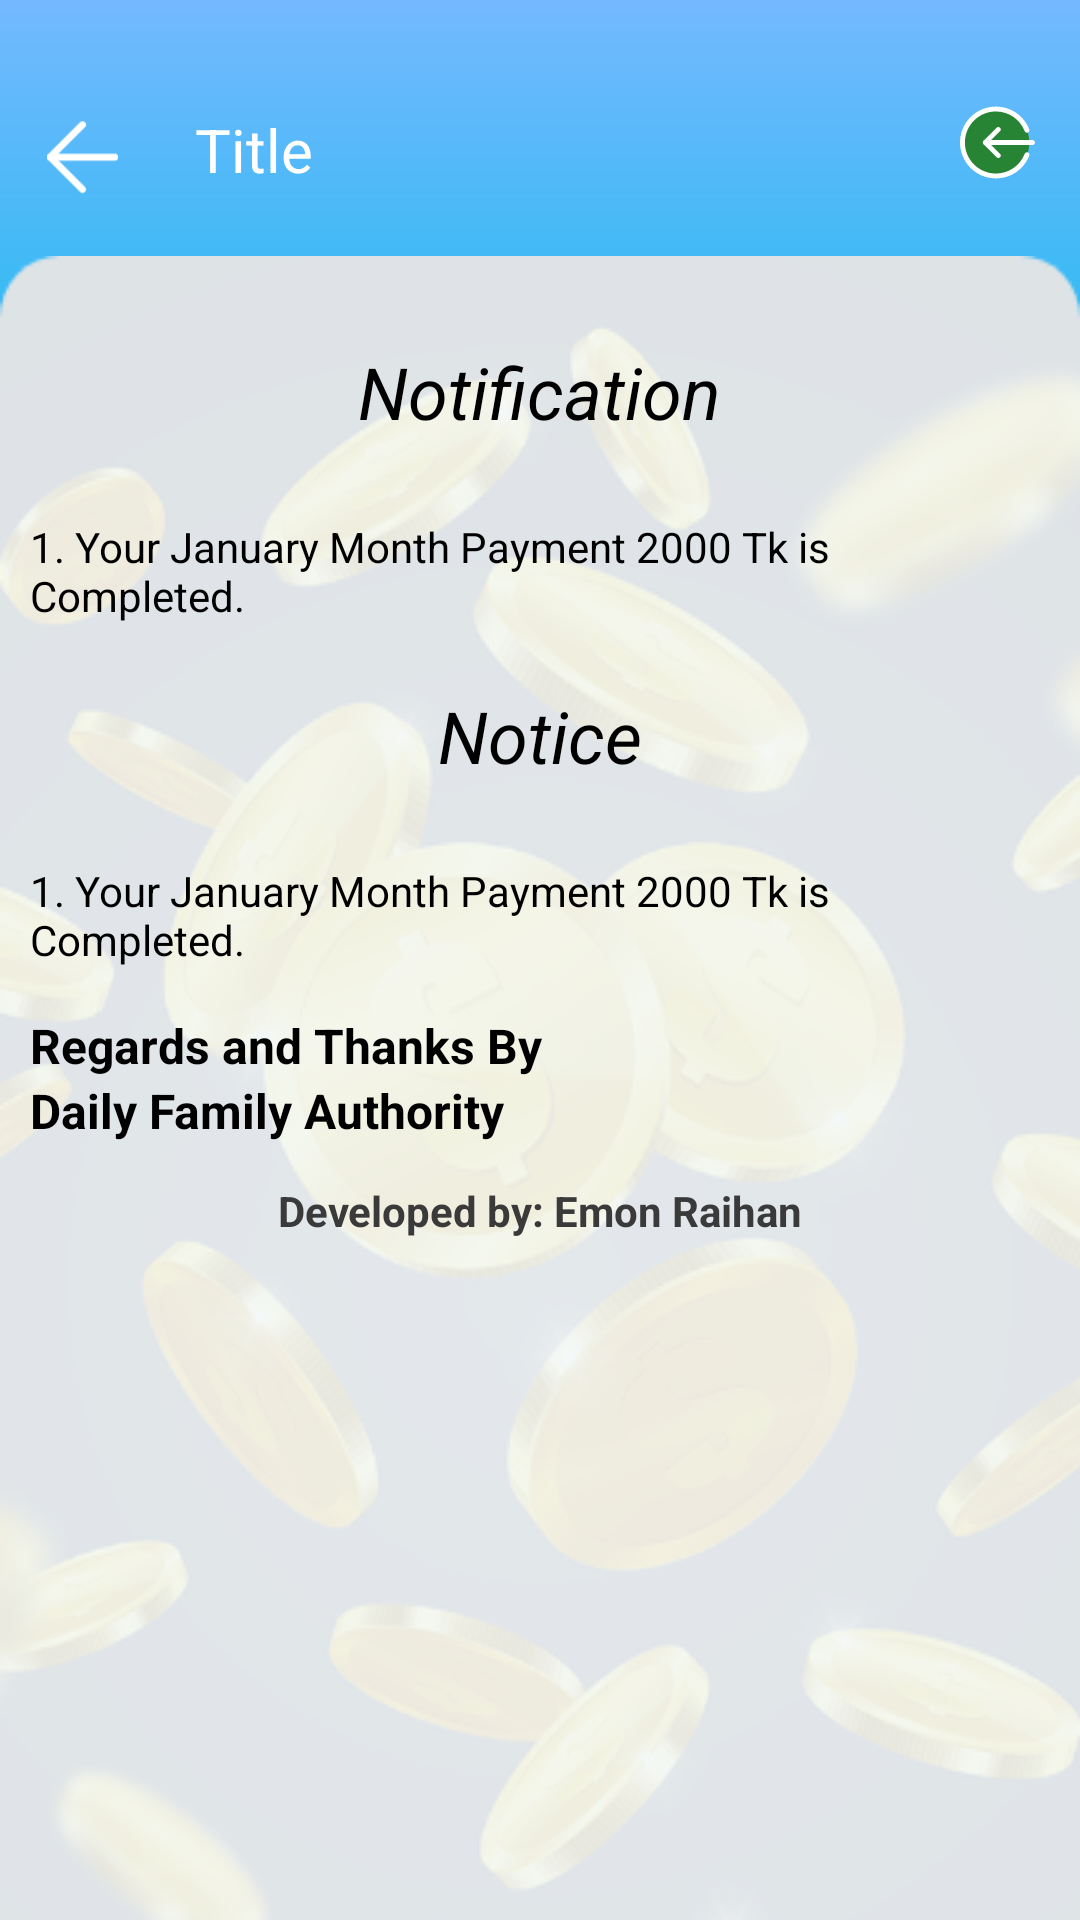

Point at icon controls on the screen. Image size 1080w x 1920h, points as point (x, y).
arrow left: point (82, 157)
